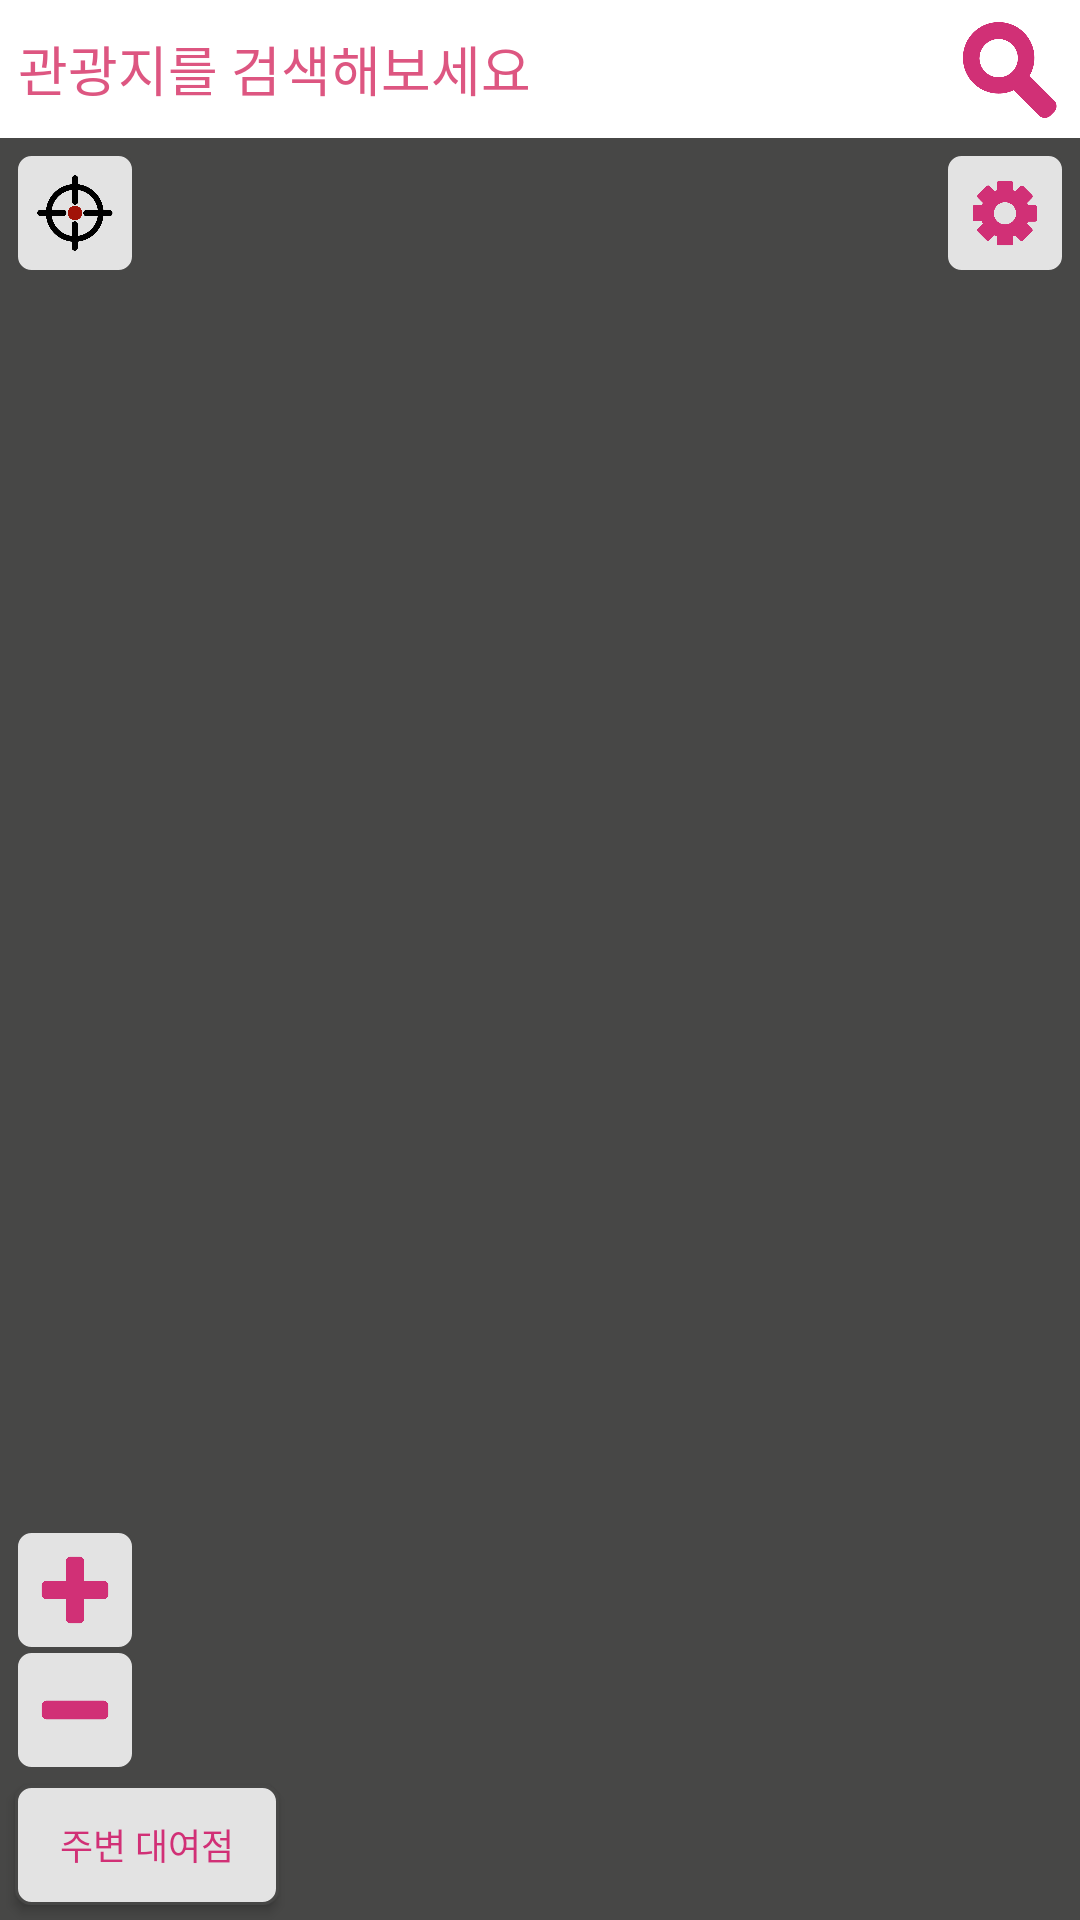

Icon bounding boxes for this 1080*1920 phone screenshot, format [left=x1, top=y1, right=x2, bottom=y2]:
location: [left=18, top=156, right=132, bottom=270]
out: [left=18, top=1653, right=132, bottom=1767]
search: [left=963, top=22, right=1057, bottom=118]
setting: [left=948, top=156, right=1062, bottom=270]
